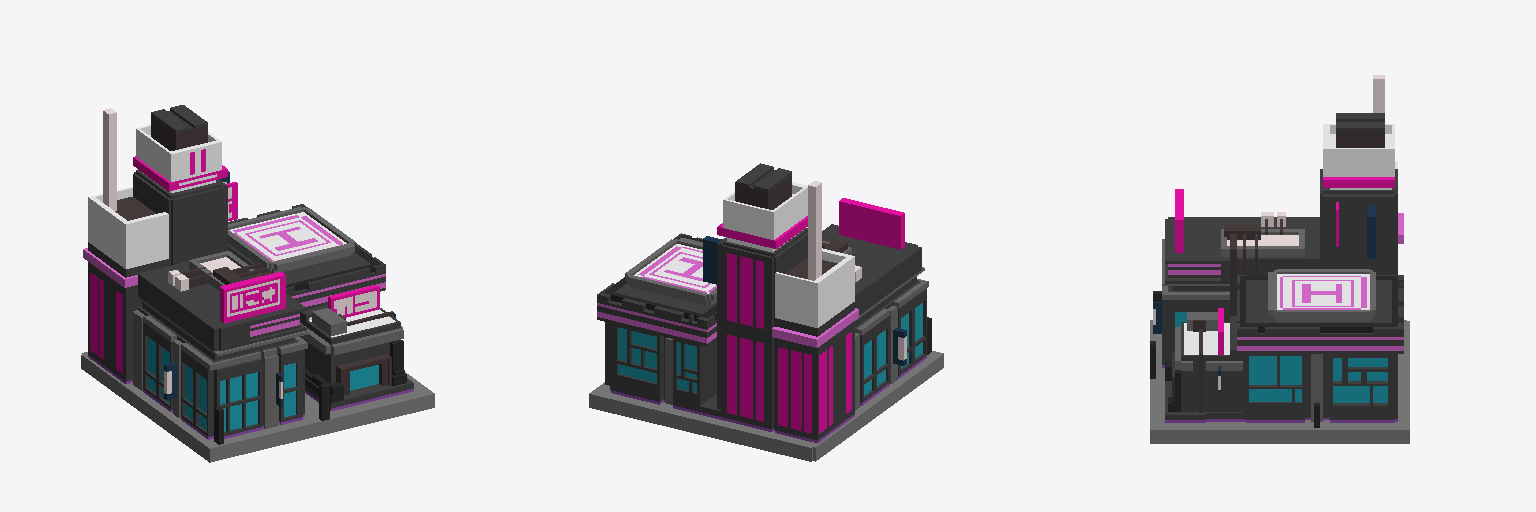
3 views of the same model, side by side, from view 1: azimuth 30°, elevation 25°; view 2: azimuth 150°, elevation 25°; view 3: azimuth 270°, elevation 25° (orthographic).
Parts seen in each view (by area): view 1: object 1; view 2: object 1; view 3: object 1.
Boxes of the visible parts, box(x1,y1,x2,y2) form: object 1: box(81, 105, 434, 462); object 1: box(589, 163, 943, 461); object 1: box(1150, 75, 1409, 443).
Size of the model in its own units: 8.5 by 9.4 by 8.4.
1 materials, 1 textured.